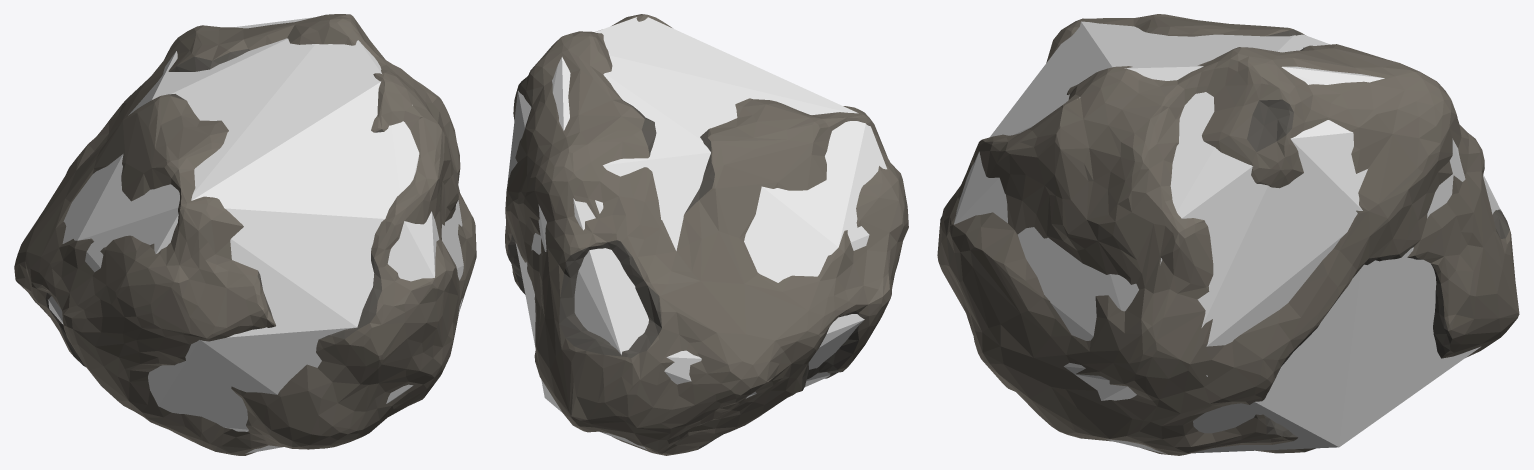
The model's file is SM_Env_Asteroid_Large_Holes_02.fbx.
3 views of the same model, side by side, from view 1: azimuth 30°, elevation 25°; view 2: azimuth 150°, elevation 25°; view 3: azimuth 270°, elevation 25° (orthographic). The views are drawn at different scales.
Parts seen in each view (by area): view 1: SM_Env_Asteroid_Large_Holes_02_LOD0, SM_Env_Asteroid_Large_Holes_02_ConvexHulls; view 2: SM_Env_Asteroid_Large_Holes_02_LOD0, SM_Env_Asteroid_Large_Holes_02_ConvexHulls; view 3: SM_Env_Asteroid_Large_Holes_02_LOD0, SM_Env_Asteroid_Large_Holes_02_ConvexHulls.
Boxes of the visible parts, box(x1,y1,x2,y2) form: SM_Env_Asteroid_Large_Holes_02_LOD0: box(14, 14, 476, 455); SM_Env_Asteroid_Large_Holes_02_ConvexHulls: box(48, 17, 463, 453); SM_Env_Asteroid_Large_Holes_02_LOD0: box(505, 14, 908, 455); SM_Env_Asteroid_Large_Holes_02_ConvexHulls: box(507, 17, 886, 449); SM_Env_Asteroid_Large_Holes_02_LOD0: box(937, 14, 1519, 455); SM_Env_Asteroid_Large_Holes_02_ConvexHulls: box(954, 21, 1500, 453).
Size of the model in its own units: 3132 by 2801 by 2585.
1 material, 1 textured.
